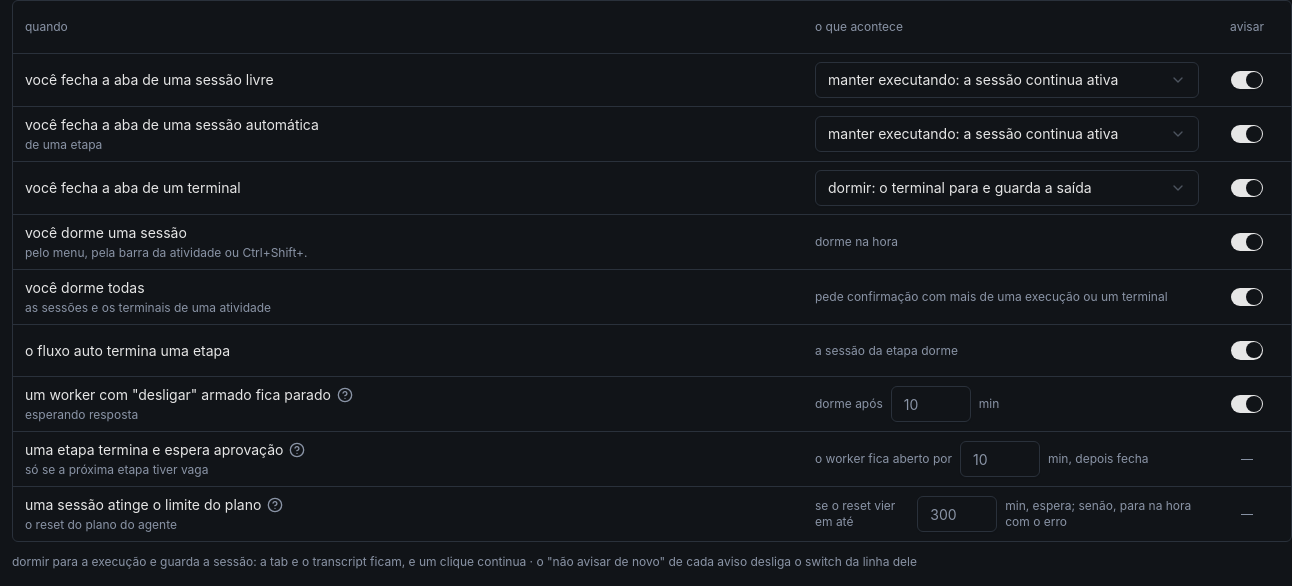
it: row idle's ? shows settings.shutdownIdle.hint in a tooltip on keyboard focus; the hint is not on the page before (#778)
Focus the button named "um worker com \"desligar\" armado fica parado" at (345, 395), box [337,387,353,403]
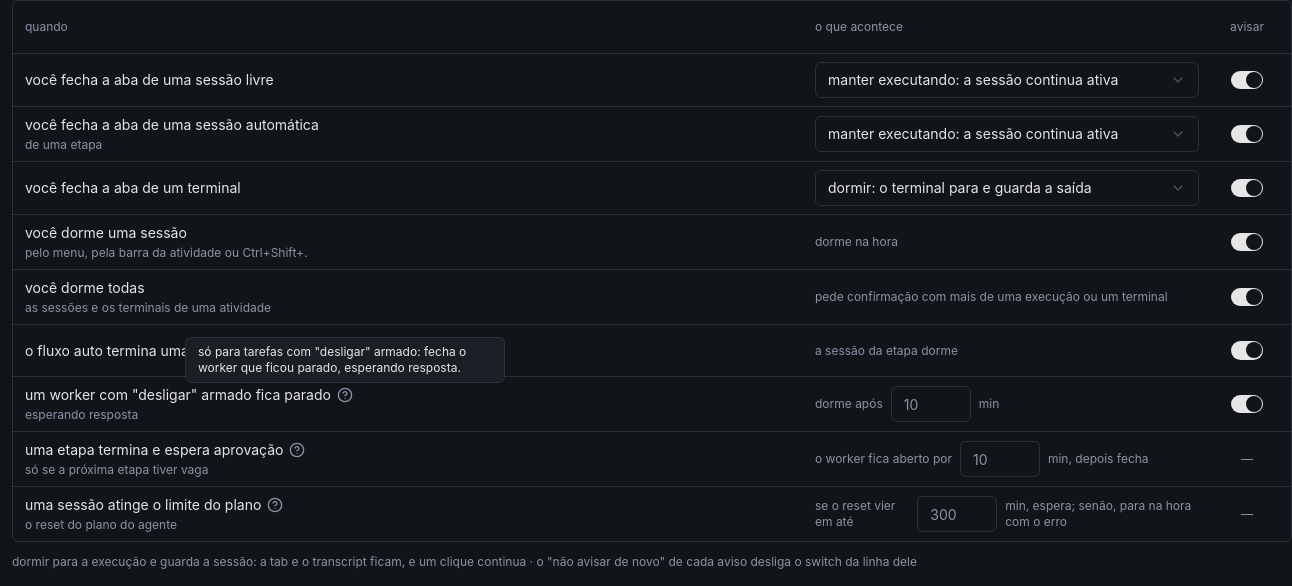
Check: the tooltip shows "só para tarefas com \"desligar\" armado: fecha o worker que ficou parado, esperando resposta.", box [198,344,466,375]
